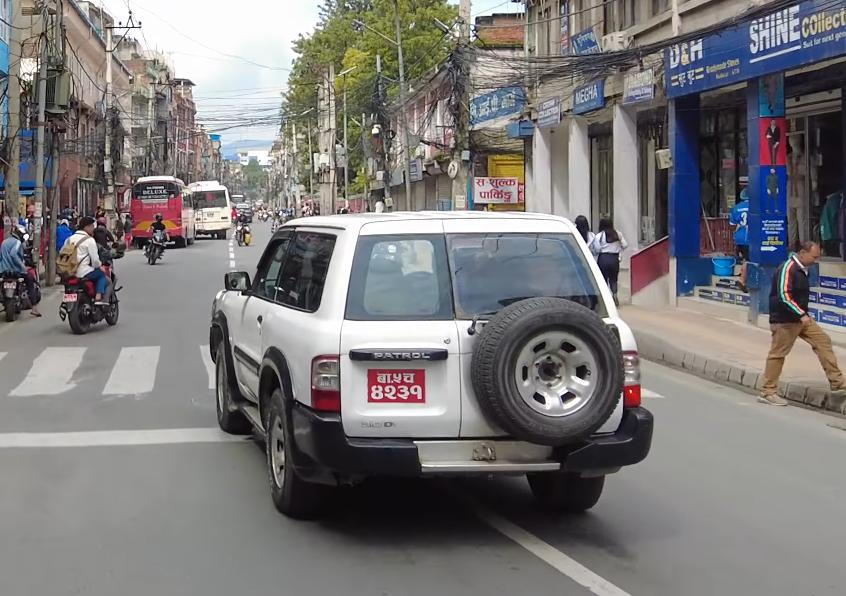SUV: (201, 192, 662, 530)
bike: (54, 254, 121, 333), (0, 245, 33, 328), (142, 229, 168, 264), (234, 221, 252, 246)
bus: (128, 172, 197, 252), (187, 177, 233, 241)
